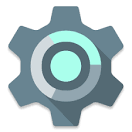settings: (2, 1, 129, 130)
